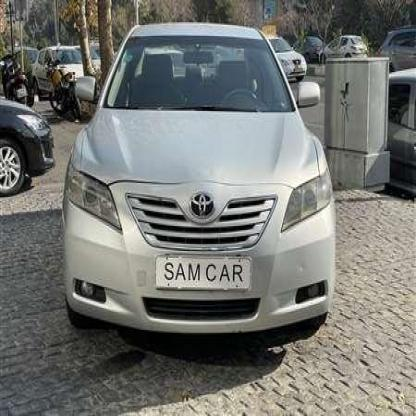Car: (72, 32, 333, 345), (366, 65, 416, 198), (0, 97, 61, 203), (35, 43, 97, 100), (317, 25, 372, 72), (371, 20, 416, 76), (262, 36, 308, 90), (292, 32, 328, 65)
